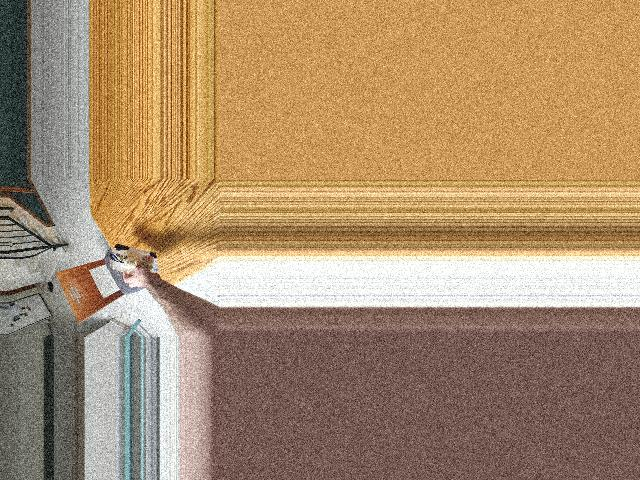cheese: (111, 244, 158, 276)
